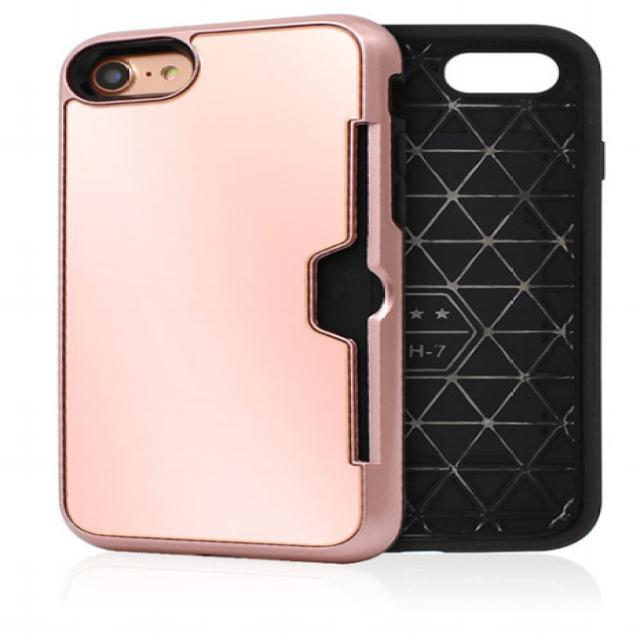phone: (53, 11, 404, 564)
